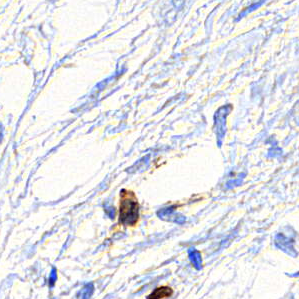Lymphocyte: (114, 186, 143, 228)
